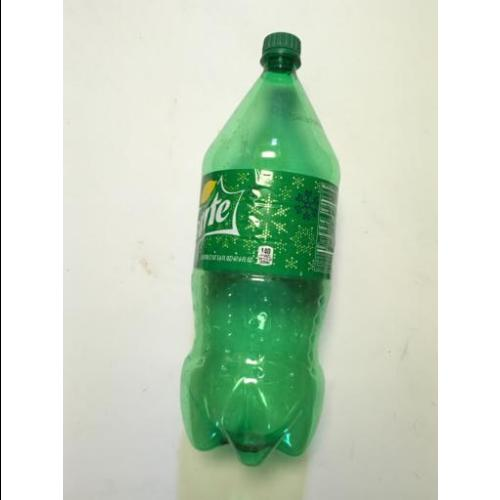plastic: (179, 31, 340, 468)
